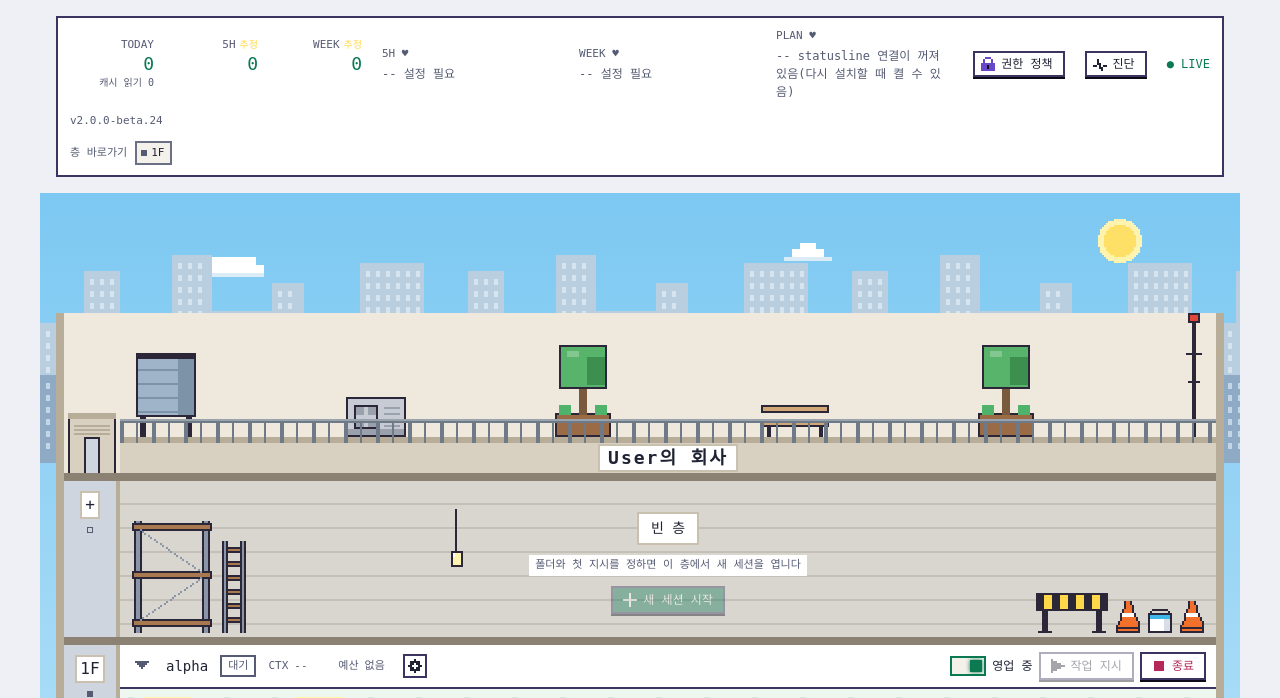
it: 목록 서랍(§4) › 버튼을 누르면 목록 서랍이 열리고 맨 위에 한계 한 줄이 늘 있다
The width and height of the screenshot is (1280, 698).
Click the button with aria-label "권한 정책 열기" at point(1019, 64), box [973,51,1064,77]
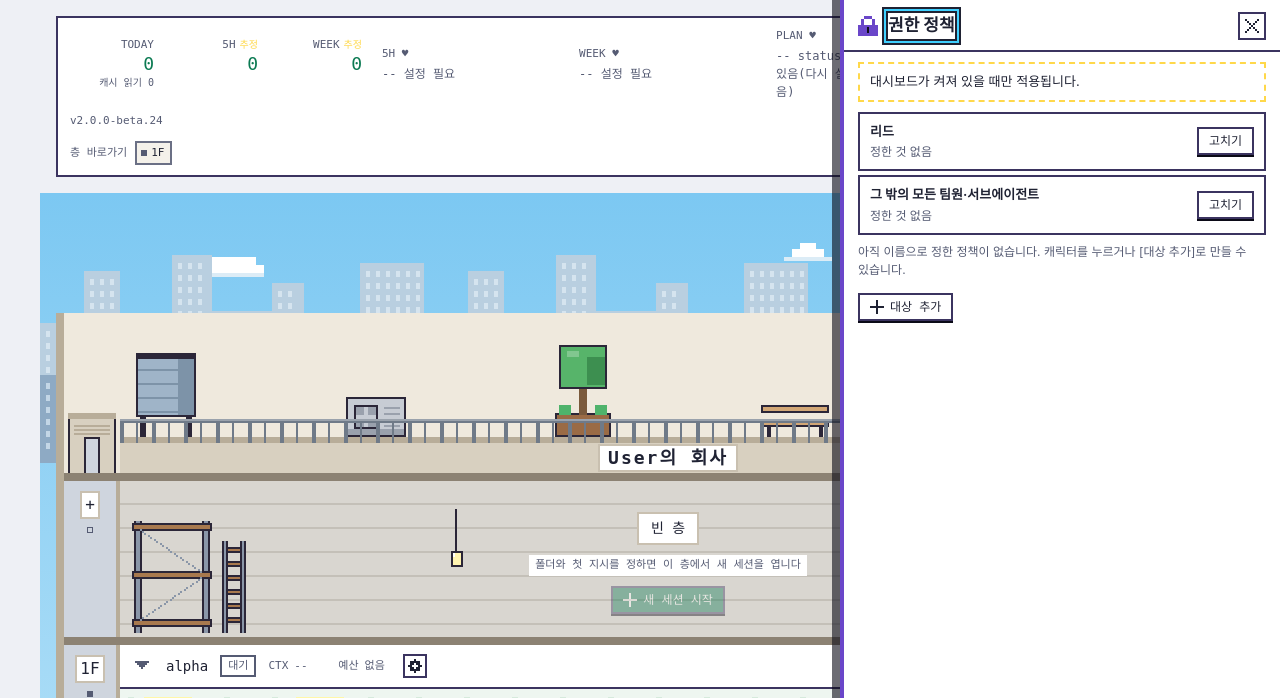
Check: the dialog shows "대시보드가 켜져 있을 때만 적용됩니다.", box [870,73,1080,89]
